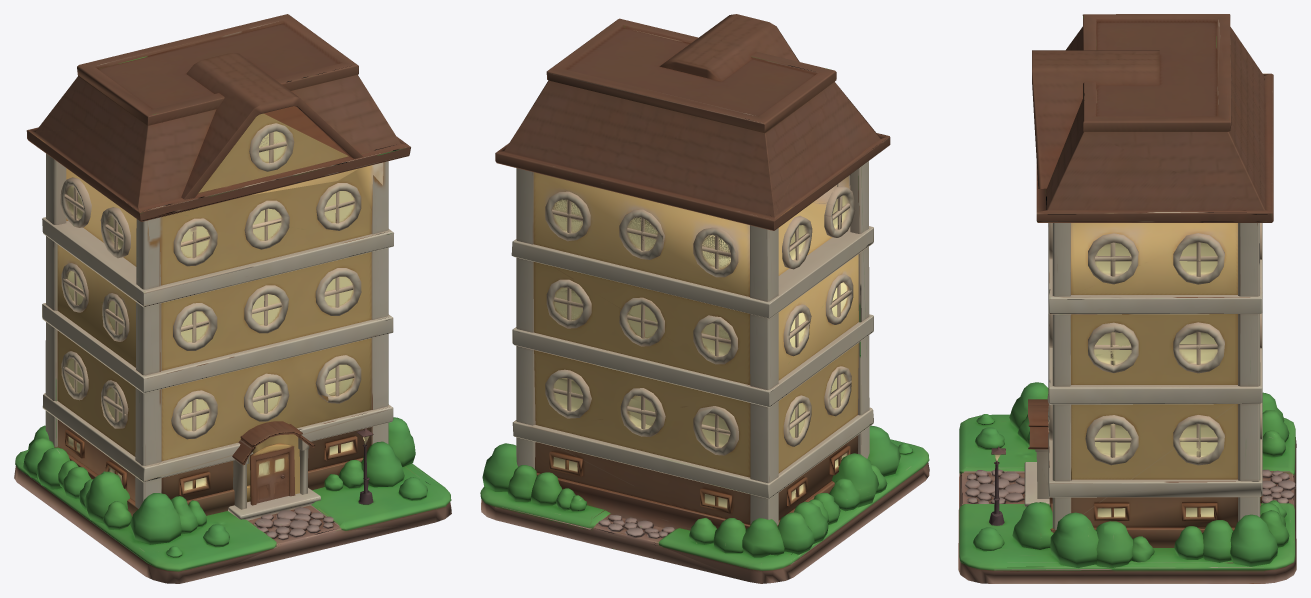
The model's file is dorm_yellow.glb.
3 views of the same model, side by side, from view 1: azimuth 30°, elevation 25°; view 2: azimuth 150°, elevation 25°; view 3: azimuth 270°, elevation 25° (orthographic). The views are drawn at different scales.
Visible parts, largest first — view 1: geometry_0; view 2: geometry_0; view 3: geometry_0.
Part boxes in pixels (x1=…): geometry_0: x1=14, y1=14, x2=451, y2=583; geometry_0: x1=480, y1=14, x2=929, y2=583; geometry_0: x1=958, y1=14, x2=1296, y2=583.
Bounding box in the file's own units: 0.7285 × 0.9526 × 0.6528.
1 material, 1 textured.
